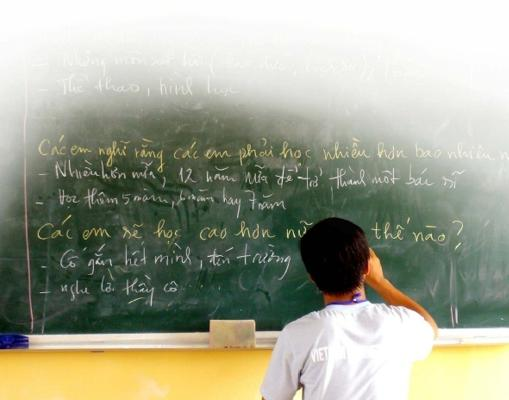person: (262, 216, 441, 398)
